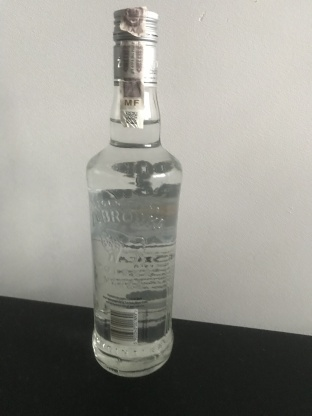nakretka: (111, 5, 160, 88)
